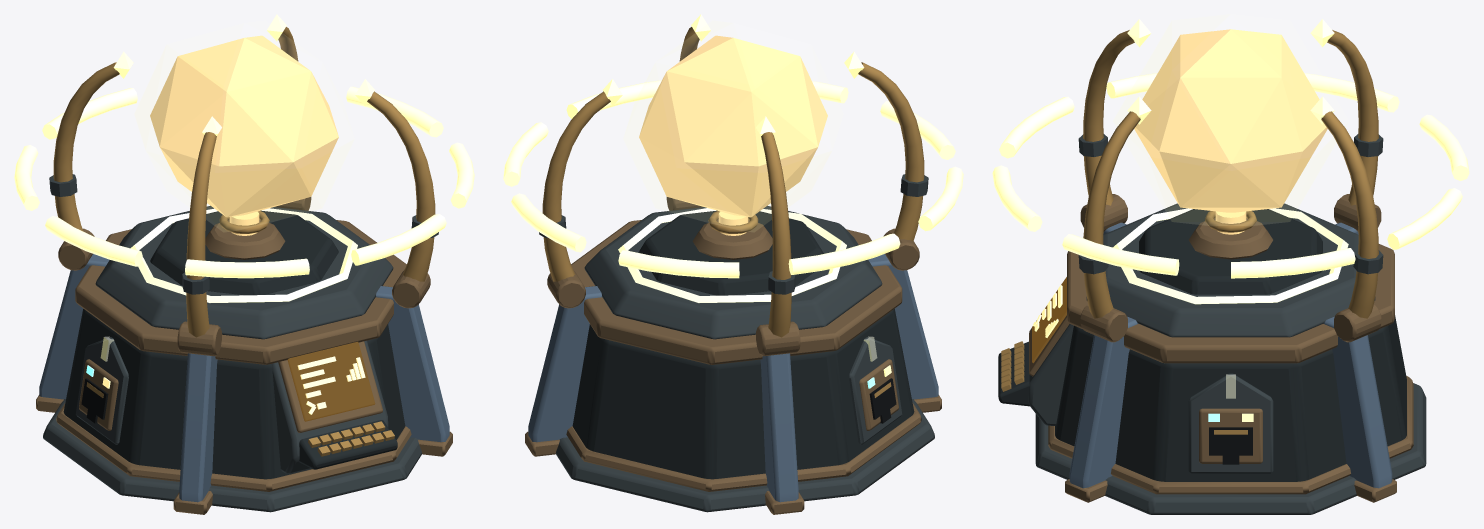
File: client.glb
3 views of the same model, side by side, from view 1: azimuth 30°, elevation 25°; view 2: azimuth 150°, elevation 25°; view 3: azimuth 270°, elevation 25° (orthographic). The views are drawn at different scales.
Parts seen in each view (by area): view 1: body_metal_dark, body_metal_graphite, orb, body_metal_brass, body_metal_steel, body_metal_brass_bright, halo, body_role_glow, body_screen_phosphor, body_glow_amber, body_rubber; view 2: body_metal_dark, body_metal_graphite, orb, body_metal_brass, body_metal_steel, body_metal_brass_bright, halo, body_role_glow, body_rubber; view 3: body_metal_dark, body_metal_graphite, orb, body_metal_brass, body_metal_brass_bright, body_metal_steel, halo, body_role_glow, body_rubber, body_screen_phosphor.
Part boxes in pixels (x1=…): body_metal_dark: x1=63, y1=210, x2=405, y2=479; body_metal_graphite: x1=43, y1=174, x2=438, y2=512; orb: x1=150, y1=35, x2=338, y2=217; body_metal_brass: x1=36, y1=197, x2=452, y2=514; body_metal_steel: x1=39, y1=254, x2=449, y2=502; body_metal_brass_bright: x1=53, y1=27, x2=435, y2=456; halo: x1=14, y1=86, x2=474, y2=278; body_role_glow: x1=113, y1=14, x2=374, y2=302; body_screen_phosphor: x1=287, y1=341, x2=375, y2=421; body_glow_amber: x1=297, y1=356, x2=365, y2=414; body_rubber: x1=81, y1=378, x2=108, y2=423; body_metal_dark: x1=572, y1=210, x2=914, y2=479; body_metal_graphite: x1=539, y1=174, x2=934, y2=512; orb: x1=639, y1=35, x2=827, y2=217; body_metal_brass: x1=525, y1=197, x2=941, y2=514; body_metal_steel: x1=528, y1=254, x2=938, y2=502; body_metal_brass_bright: x1=542, y1=27, x2=924, y2=397; halo: x1=503, y1=80, x2=963, y2=278; body_role_glow: x1=603, y1=14, x2=864, y2=302; body_rubber: x1=869, y1=378, x2=896, y2=423; body_metal_dark: x1=998, y1=209, x2=1406, y2=481; body_metal_graphite: x1=1028, y1=134, x2=1426, y2=514; orb: x1=1134, y1=29, x2=1327, y2=212; body_metal_brass: x1=1029, y1=194, x2=1413, y2=502; body_metal_brass_bright: x1=1001, y1=30, x2=1378, y2=434; body_metal_steel: x1=1069, y1=222, x2=1392, y2=488; halo: x1=992, y1=73, x2=1469, y2=278; body_role_glow: x1=1113, y1=19, x2=1348, y2=304; body_rubber: x1=1209, y1=427, x2=1252, y2=464; body_screen_phosphor: x1=1032, y1=277, x2=1066, y2=363.
Bounding box in the file's own units: 1.41 × 1.37 × 1.41.
